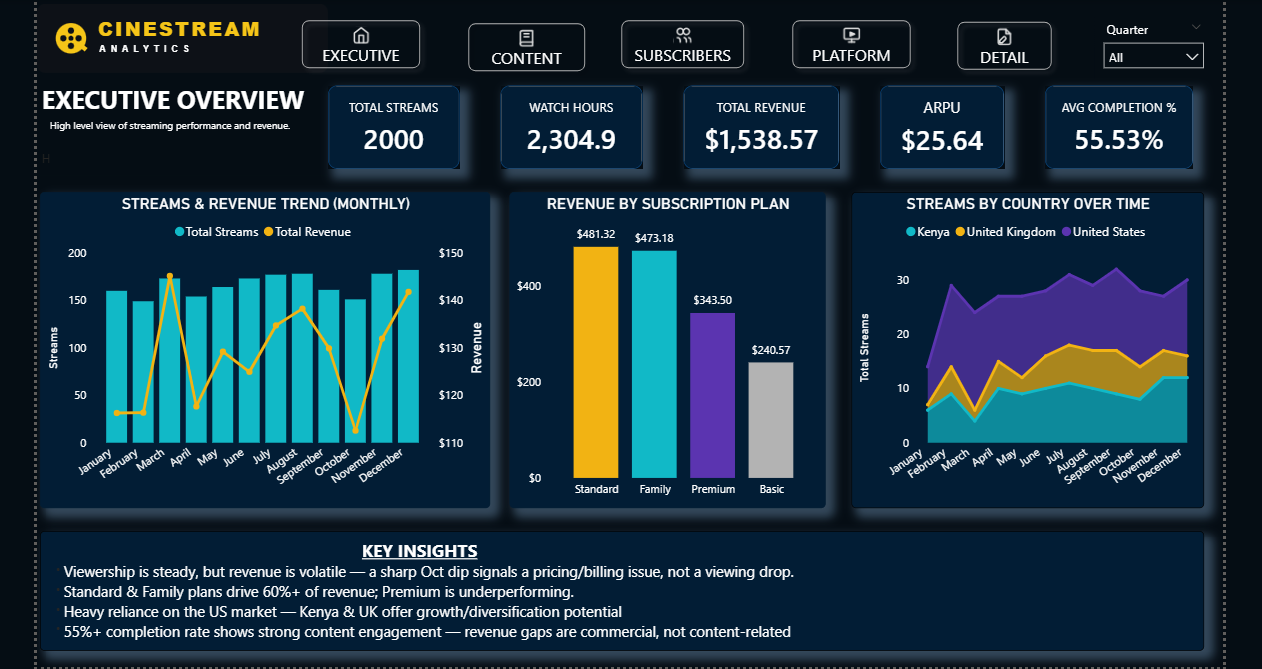

The dashboard page shown, as its layout file describes it:
{"tool":"powerbi","page":{"name":"EXECUTVE","canvas":[1280,720],"ordinal":0},"visuals":[{"type":"image","box":[0,0,314.1,82.6],"z":0},{"type":"slicer","fields":{"Values":["Date.Quarter"]},"box":[1141.6,16.2,127.9,69.6],"z":1000},{"type":"actionButton","box":[456.6,16.2,144.1,69.6],"z":2000},{"type":"actionButton","box":[621.8,13,150.6,69.6],"z":3000},{"type":"actionButton","box":[806.4,13,145.7,69.6],"z":4000},{"type":"actionButton","box":[984.5,14.6,119.8,69.6],"z":5000},{"type":"actionButton","box":[276.9,13,145.7,69.6],"z":6000},{"type":"textbox","box":[0,84.2,314.1,105.2],"z":7000},{"type":"cardVisual","fields":{"Data":["_Measures.Total Streams"]},"box":[314.1,92.3,142.5,90.7],"z":8000},{"type":"cardVisual","fields":{"Data":["_Measures.Total Watch Hours"]},"box":[500.3,92.3,153.8,90.7],"z":9000},{"type":"cardVisual","fields":{"Data":["_Measures.Total Revenue"]},"box":[697.9,92.3,168.4,90.7],"z":10000},{"type":"cardVisual","fields":{"Data":["_Measures.ARPU"]},"box":[910,92.3,134.4,90.7],"z":11000},{"type":"cardVisual","fields":{"Data":["_Measures.Avg Completion %"]},"box":[1088.1,92.3,160.3,90.7],"z":12000},{"type":"lineStackedColumnComboChart","title":"STREAMS & REVENUE TREND (MONTHLY)","fields":{"Category":["Date.MonthName"],"Y":["_Measures.Total Streams"],"Y2":["_Measures.Total Revenue"]},"box":[3.2,207.3,485.8,341.7],"z":13000},{"type":"clusteredColumnChart","title":"REVENUE BY SUBSCRIPTION PLAN","fields":{"Y":["_Measures.Total Revenue"],"Category":["Customer.SubscriptionPlan"]},"box":[510.1,207.3,341.7,341.7],"z":14000},{"type":"stackedAreaChart","title":"STREAMS BY COUNTRY OVER TIME","fields":{"Category":["Date.MonthName"],"Y":["_Measures.Total Streams"],"Series":["Customer.Country"]},"box":[879.2,207.3,380.5,341.7],"z":15000},{"type":"textbox","box":[3.2,573.2,1256.5,129.5],"z":16000}]}

Visuals, with their boxes on the page's 1280x720 design canvas (x1, y1, x2, y2). These are canvas units, not pixel positions in the 1262x669 screenshot, which may show the page scaled, cropped or inside an application window:
image: BBox(0, 0, 314, 83)
slicer - Date.Quarter: BBox(1142, 16, 1270, 86)
actionButton: BBox(457, 16, 601, 86)
actionButton: BBox(622, 13, 772, 83)
actionButton: BBox(806, 13, 952, 83)
actionButton: BBox(984, 15, 1104, 84)
actionButton: BBox(277, 13, 423, 83)
textbox: BBox(0, 84, 314, 189)
cardVisual - _Measures.Total Streams: BBox(314, 92, 457, 183)
cardVisual - _Measures.Total Watch Hours: BBox(500, 92, 654, 183)
cardVisual - _Measures.Total Revenue: BBox(698, 92, 866, 183)
cardVisual - _Measures.ARPU: BBox(910, 92, 1044, 183)
cardVisual - _Measures.Avg Completion %: BBox(1088, 92, 1248, 183)
"STREAMS & REVENUE TREND (MONTHLY)" lineStackedColumnComboChart: BBox(3, 207, 489, 549)
"REVENUE BY SUBSCRIPTION PLAN" clusteredColumnChart: BBox(510, 207, 852, 549)
"STREAMS BY COUNTRY OVER TIME" stackedAreaChart: BBox(879, 207, 1260, 549)
textbox: BBox(3, 573, 1260, 703)
